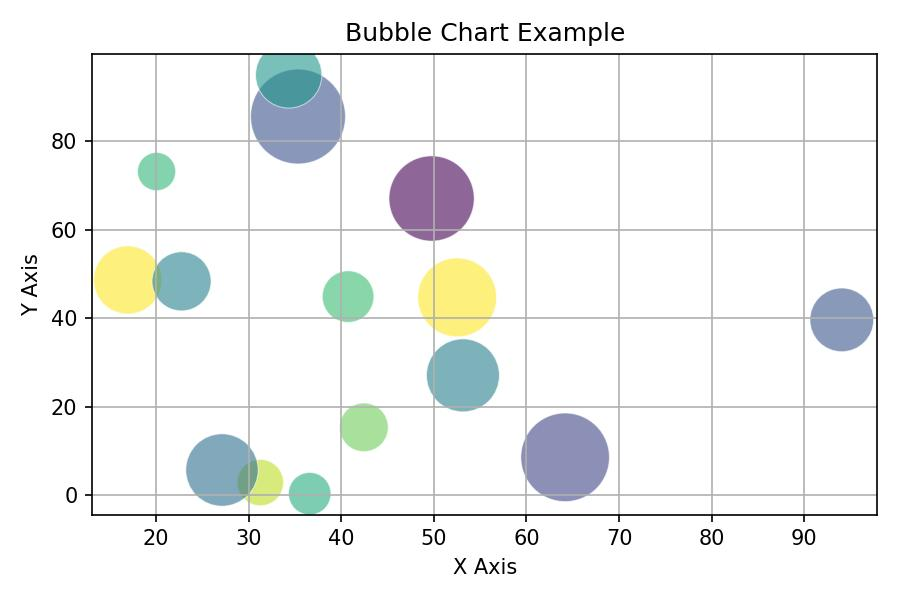axis: (80, 506, 885, 534), (70, 41, 103, 543)
circle: (249, 73, 348, 160), (520, 413, 610, 500), (389, 155, 475, 239), (424, 337, 503, 412), (416, 259, 498, 331), (189, 433, 254, 503), (810, 288, 875, 354), (254, 51, 325, 108), (97, 249, 160, 313), (151, 251, 211, 308), (340, 403, 389, 453), (323, 271, 374, 318), (239, 455, 283, 502), (289, 471, 332, 513), (137, 153, 179, 190)
